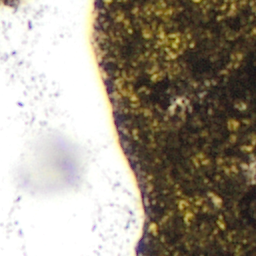cement_matrix: (96, 0, 255, 255)
gravel_crushed_stones: (0, 0, 147, 255)
